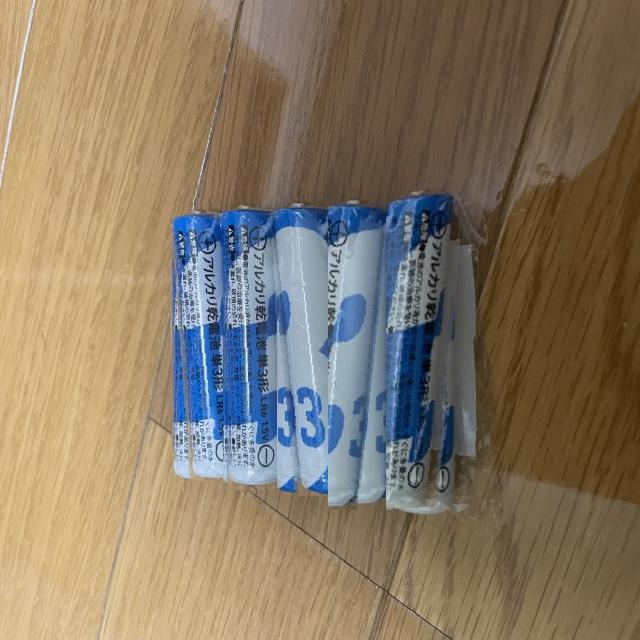battery: (386, 188, 466, 512), (328, 189, 391, 510), (266, 192, 332, 496), (219, 196, 277, 490), (170, 198, 223, 481)
